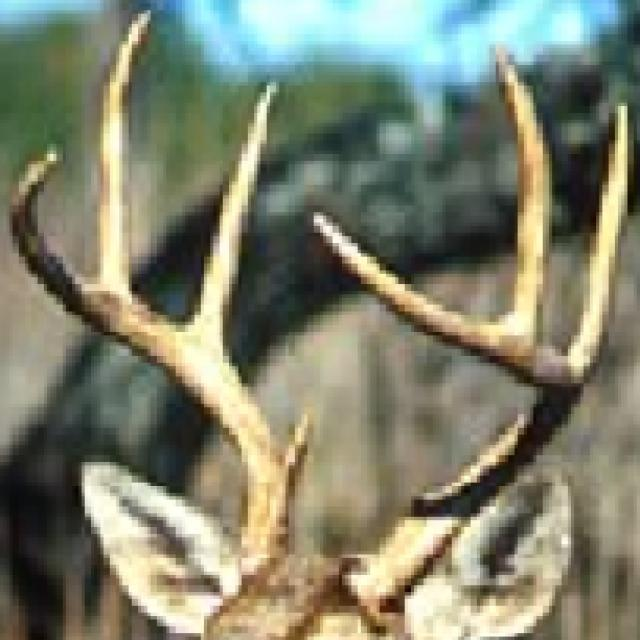L-F: (305, 207, 596, 637)
L-G1: (566, 96, 633, 371)
L-G2: (490, 43, 554, 343)
R-F: (6, 140, 296, 579)
R-G1: (283, 408, 316, 499)
R-G2: (186, 78, 282, 362)
R-G3: (97, 6, 154, 297)
